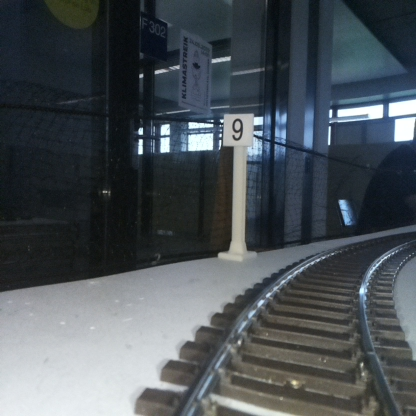white-info-9: (223, 113, 253, 258)
